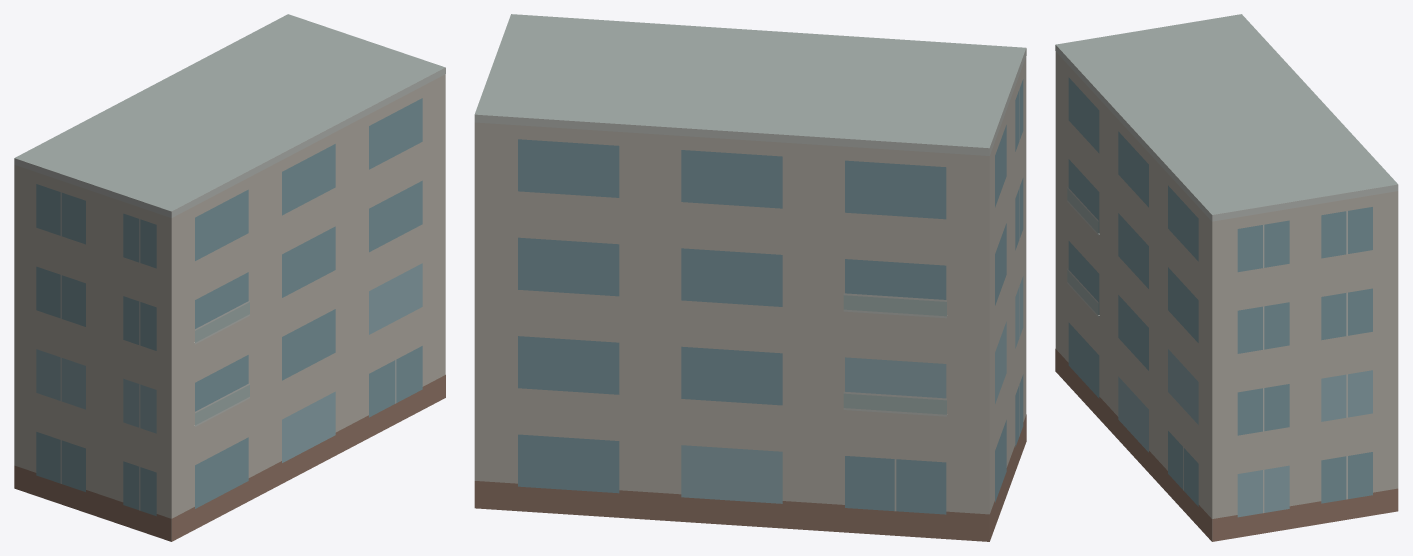
The model's file is residential-1debb6f9-7aa9-4eb4-9e08-81bfaee9c050.glb.
3 views of the same model, side by side, from view 1: azimuth 30°, elevation 25°; view 2: azimuth 150°, elevation 25°; view 3: azimuth 270°, elevation 25° (orthographic). The views are drawn at different scales.
Parts seen in each view (by area): view 1: residential-1debb6f9-7aa9-4eb4-9e08-81bfaee9c050.tmp; view 2: residential-1debb6f9-7aa9-4eb4-9e08-81bfaee9c050.tmp; view 3: residential-1debb6f9-7aa9-4eb4-9e08-81bfaee9c050.tmp.
Part boxes in pixels (<box>): residential-1debb6f9-7aa9-4eb4-9e08-81bfaee9c050.tmp: <box>14,14,445,541</box>; residential-1debb6f9-7aa9-4eb4-9e08-81bfaee9c050.tmp: <box>474,14,1026,541</box>; residential-1debb6f9-7aa9-4eb4-9e08-81bfaee9c050.tmp: <box>1055,14,1398,541</box>.
Size of the model in its own units: 16.11 by 12.2 by 11.61.
